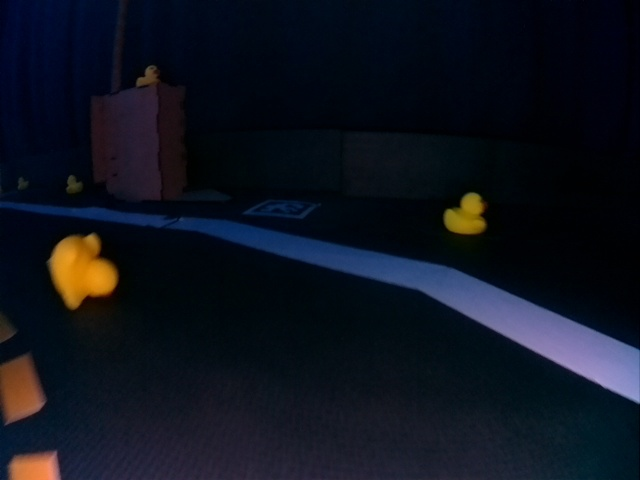Duckie: (50, 237, 115, 306), (444, 193, 485, 232), (136, 65, 159, 86), (66, 175, 82, 192), (18, 178, 28, 188)
QR code: (243, 199, 318, 219)
